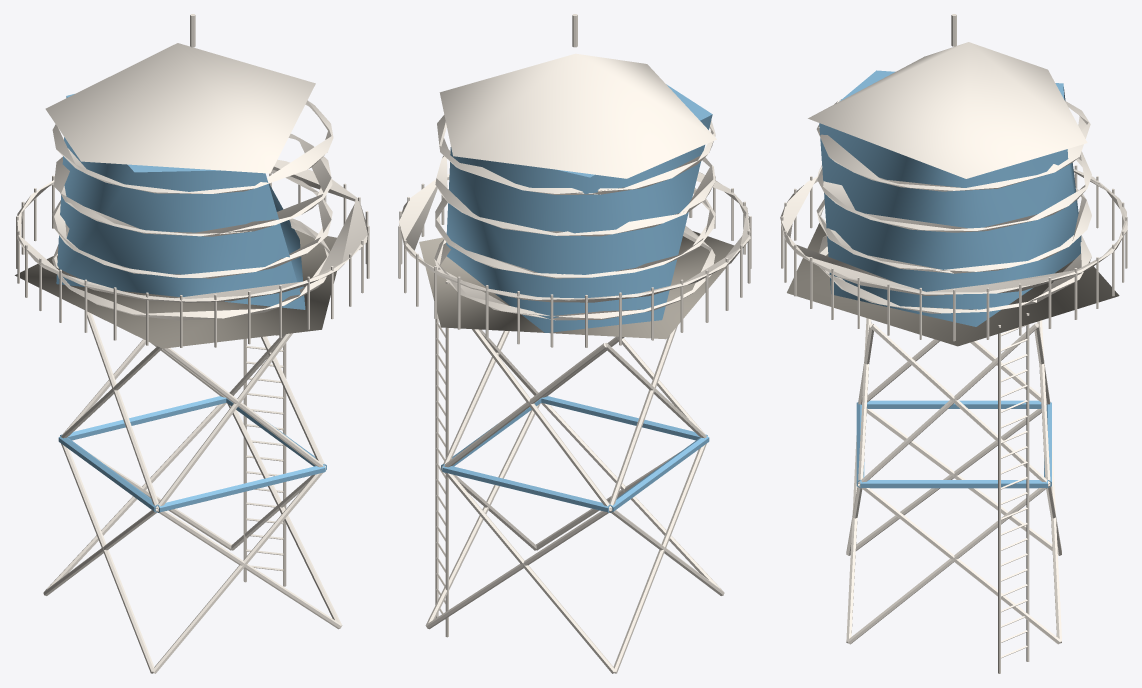
Rendered from water_tower.glb.
3 views of the same model, side by side, from view 1: azimuth 30°, elevation 25°; view 2: azimuth 150°, elevation 25°; view 3: azimuth 270°, elevation 25° (orthographic). The views are drawn at different scales.
Visible parts, largest first — view 1: water_tower; view 2: water_tower; view 3: water_tower.
Part boxes in pixels (left/top/right/bottom): water_tower: left=15, top=14, right=369, bottom=673; water_tower: left=398, top=14, right=751, bottom=673; water_tower: left=780, top=14, right=1127, bottom=673.
Size of the model in its own units: 6.18 by 11.8 by 6.16.
Materials: 1 (1 with a texture image).
